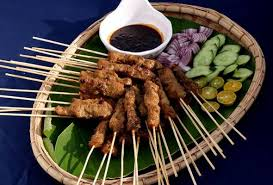sate: (60, 46, 205, 169)
